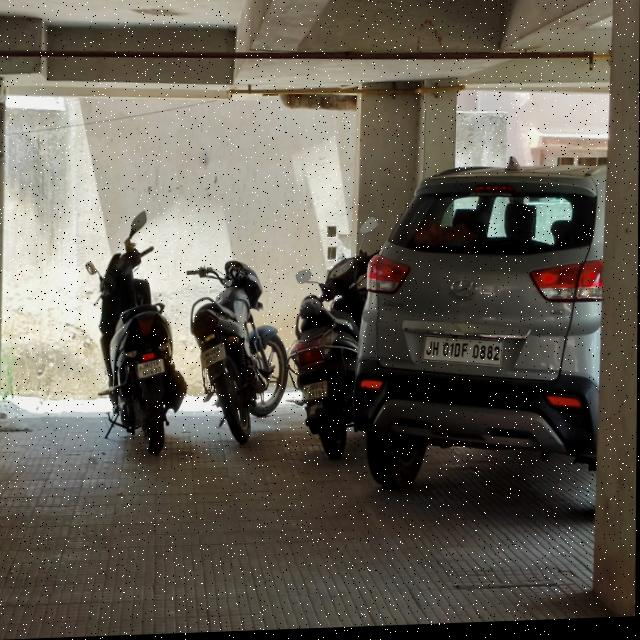bike: (72, 206, 188, 489), (182, 245, 291, 492), (289, 210, 382, 464)
car: (346, 120, 602, 541)
